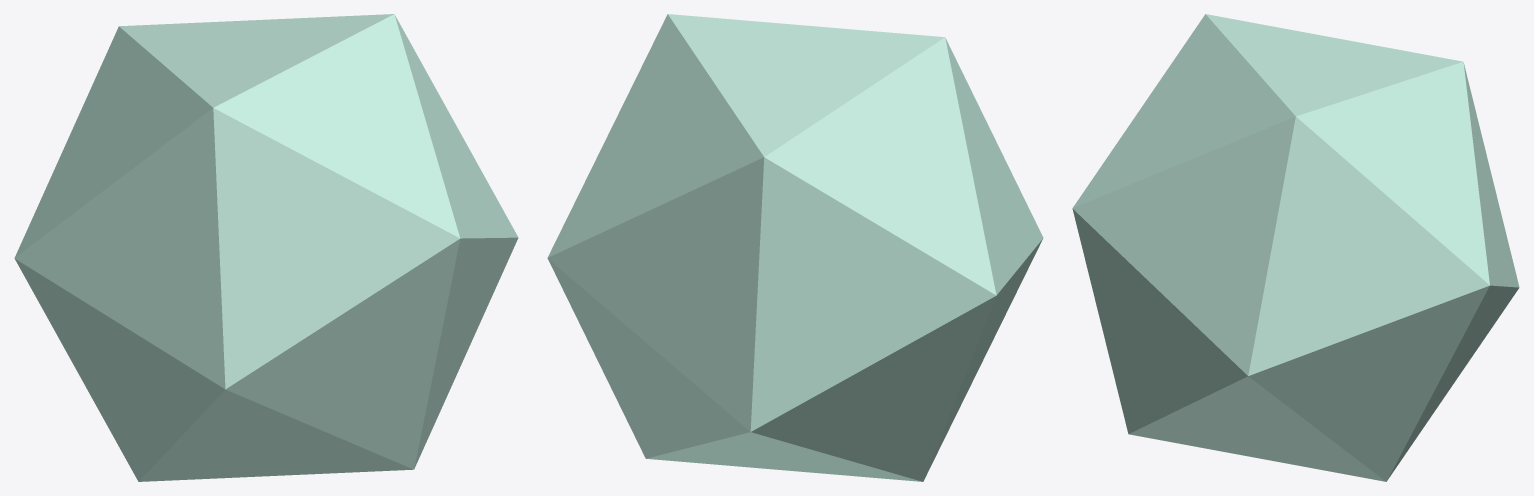
File: platonic-icosahedron.glb
3 renders of one model, left to right at view 1: azimuth 30°, elevation 25°; view 2: azimuth 150°, elevation 25°; view 3: azimuth 270°, elevation 25°, orthographic. The views are drawn at different scales.
Parts seen in each view (by area): view 1: Icosahedron; view 2: Icosahedron; view 3: Icosahedron.
Part boxes in pixels (box(x1,y1,x2,y2)): Icosahedron: box(14, 14, 518, 481); Icosahedron: box(547, 14, 1043, 481); Icosahedron: box(1072, 14, 1519, 481).
Bounding box in the file's own units: 1.72 × 1.47 × 1.57.
